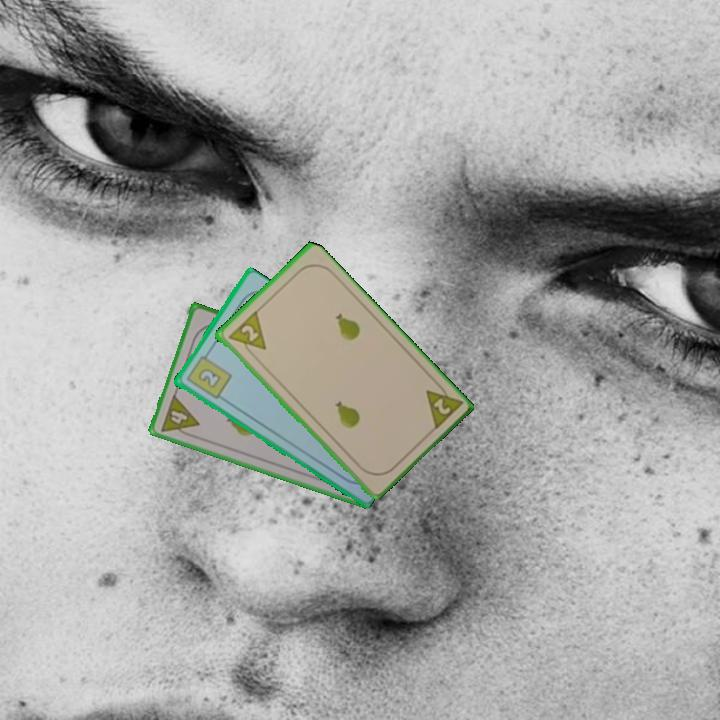2b: (182, 348, 234, 402)
2p: (421, 377, 464, 434), (224, 308, 269, 362)
4p: (157, 391, 202, 441)
